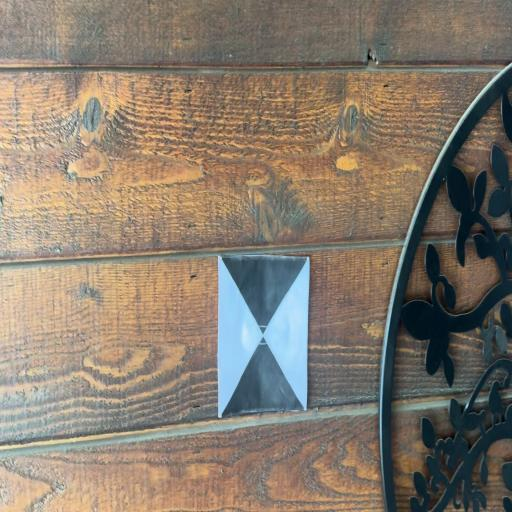target: (218, 257, 307, 411)
